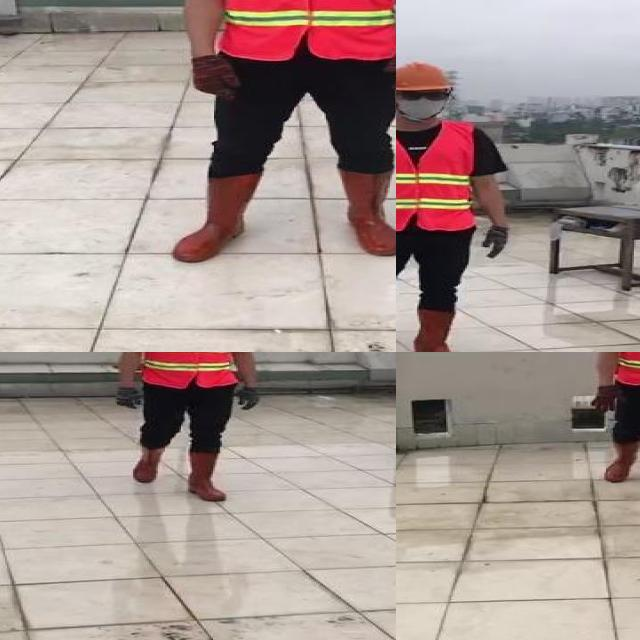boots: (170, 173, 258, 262), (333, 166, 396, 255), (411, 308, 472, 352), (186, 452, 229, 502), (602, 439, 640, 484), (133, 441, 165, 485)
face_mask: (396, 90, 451, 120)
glasses: (396, 85, 451, 104)
hand_glove: (184, 55, 242, 100), (481, 226, 508, 260), (588, 386, 626, 410), (114, 386, 144, 410), (236, 387, 261, 410)
head_helmet: (396, 59, 449, 91)
person: (152, 0, 396, 266), (396, 63, 517, 352), (579, 352, 640, 508)
vest: (215, 0, 396, 60), (396, 121, 475, 232), (143, 352, 239, 389)
